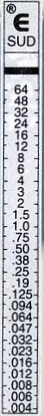number: (8, 288, 34, 300), (8, 322, 33, 334), (8, 334, 33, 346), (7, 368, 32, 380), (7, 380, 32, 392), (7, 391, 32, 403), (8, 403, 33, 415), (8, 300, 34, 311), (8, 311, 33, 322), (8, 346, 33, 357), (8, 357, 33, 368), (11, 254, 31, 267), (11, 277, 32, 289), (12, 82, 30, 95), (11, 232, 32, 243), (12, 243, 31, 255), (12, 266, 31, 278), (12, 220, 32, 231), (12, 118, 30, 130), (12, 95, 31, 106), (12, 209, 31, 220), (13, 106, 30, 118), (14, 129, 30, 141), (15, 140, 30, 152), (14, 152, 28, 164), (15, 197, 26, 209), (16, 163, 26, 176), (15, 186, 26, 197), (16, 175, 26, 186)
